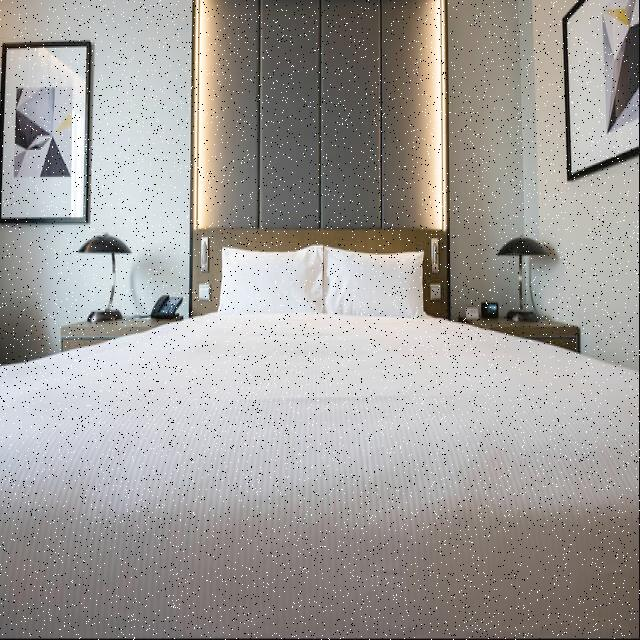bed: (5, 235, 640, 640)
